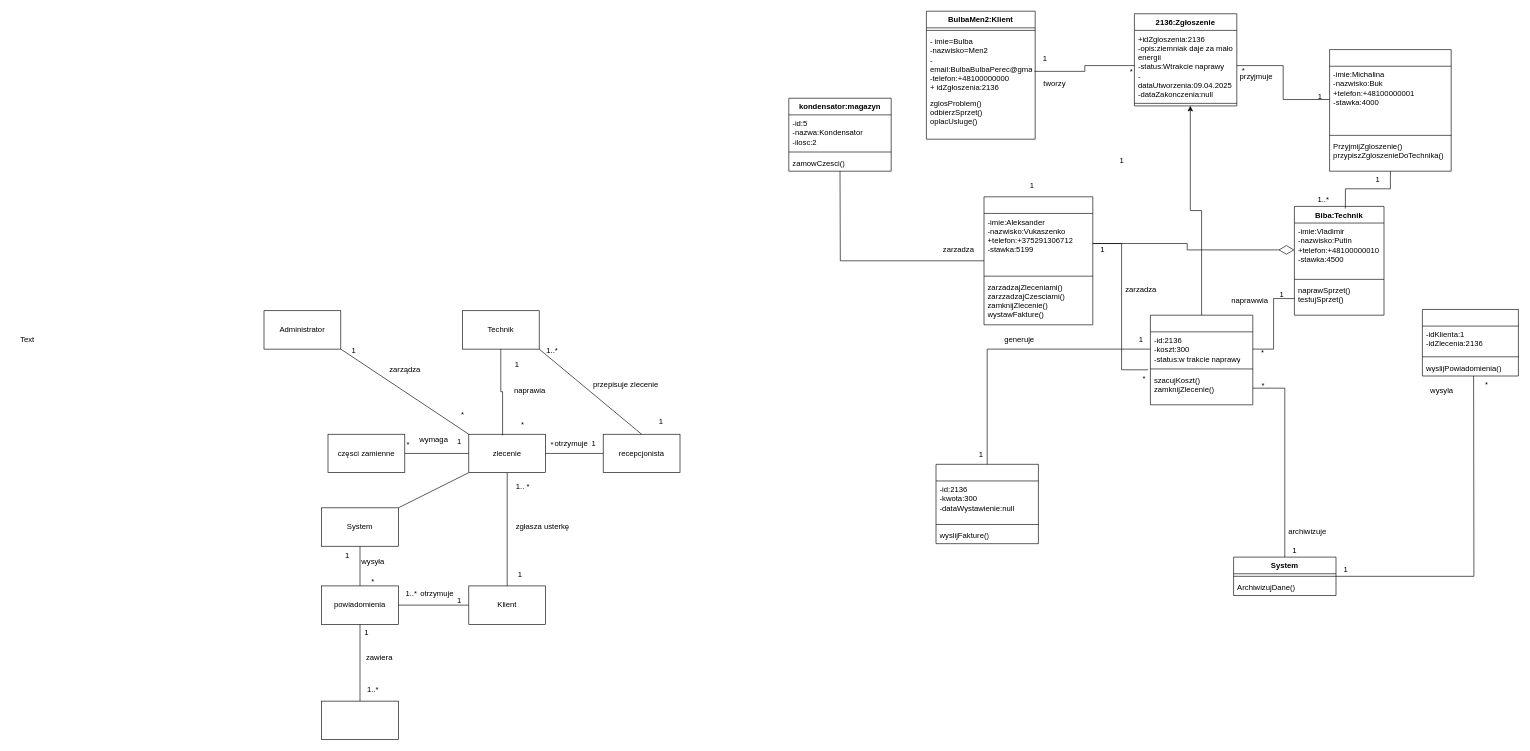
The diagram is 1530 pixels wide and 751 high, and some of its shapes have lost their labels. Each missing label, with the box of its shape:
1:Powiadomienia: (1422, 309, 1518, 376)
2136:Faktura: (935, 464, 1038, 544)
2136:ZlecenieNaprawy: (1150, 315, 1253, 405)
Aleks:Administrator: (983, 196, 1093, 325)
Faktura: (321, 700, 398, 740)
Michalina:Recepjonistka: (1329, 49, 1451, 171)
